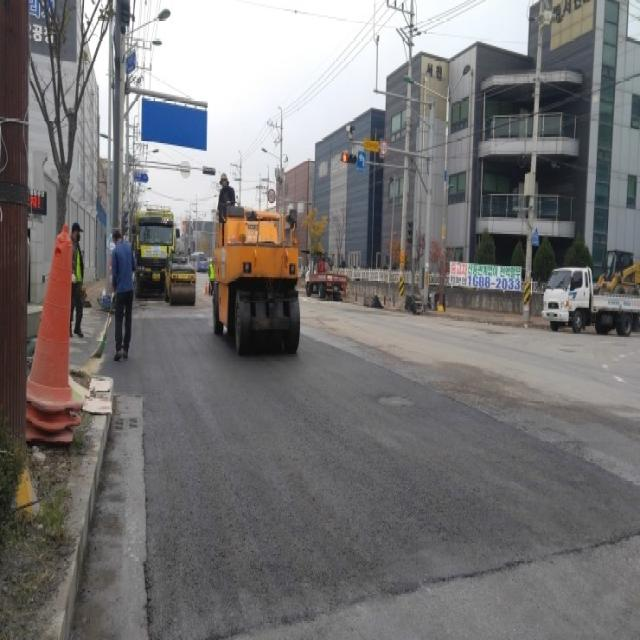asphalt: (103, 297, 639, 638)
cement: (43, 377, 147, 638)
white-sand: (0, 420, 89, 638)
